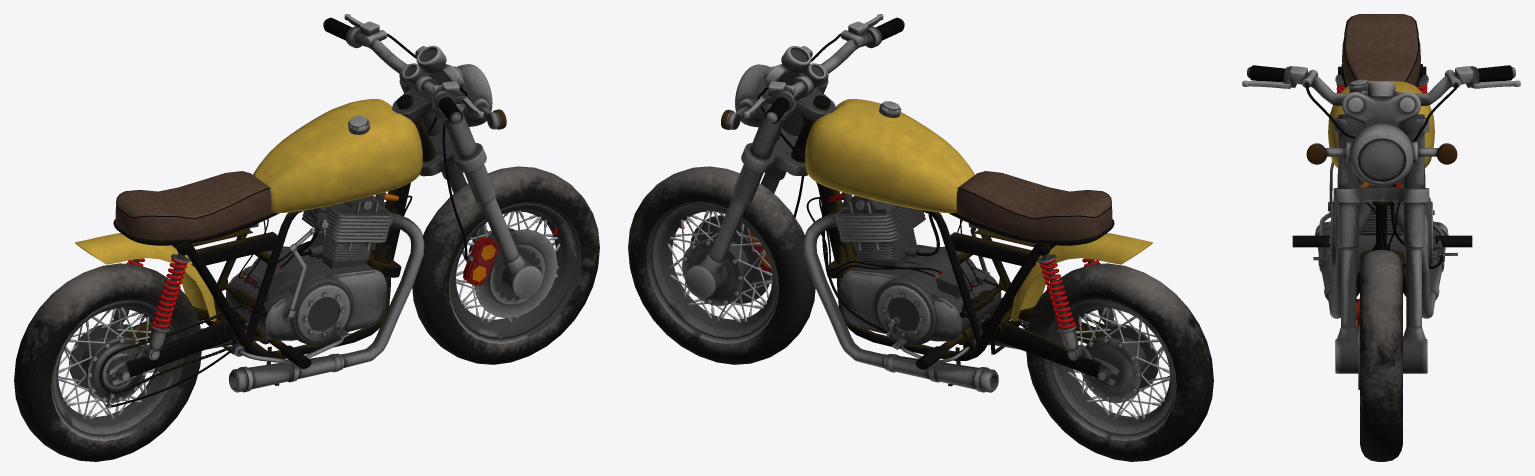
The model's file is Motorcycle.glb.
3 views of the same model, side by side, from view 1: azimuth 30°, elevation 25°; view 2: azimuth 150°, elevation 25°; view 3: azimuth 270°, elevation 25° (orthographic). The views are drawn at different scales.
Visible parts, largest first — view 1: Cube.042_Material.008_0_4, Cube.042_Material.008_0_5; view 2: Cube.042_Material.008_0_4, Cube.042_Material.008_0_5; view 3: Cube.042_Material.008_0_4.
Part boxes in pixels (x1,y1,x2,y2): Cube.042_Material.008_0_4: [14, 14, 599, 461]; Cube.042_Material.008_0_5: [57, 228, 557, 419]; Cube.042_Material.008_0_4: [628, 14, 1213, 461]; Cube.042_Material.008_0_5: [667, 232, 1170, 419]; Cube.042_Material.008_0_4: [1242, 14, 1520, 461].
Size of the model in its own units: 2.2 by 1.2 by 0.8988.
1 material, 1 textured.
